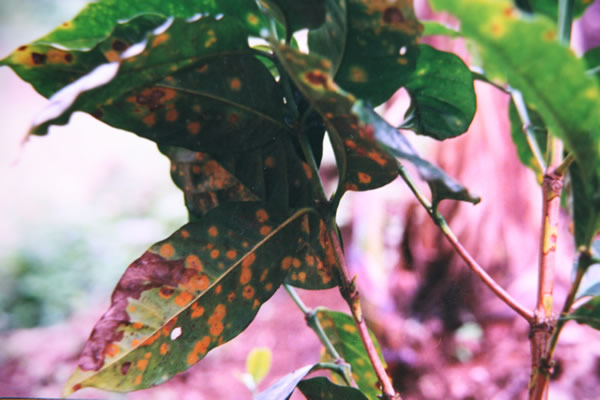roya: (92, 30, 379, 385)
